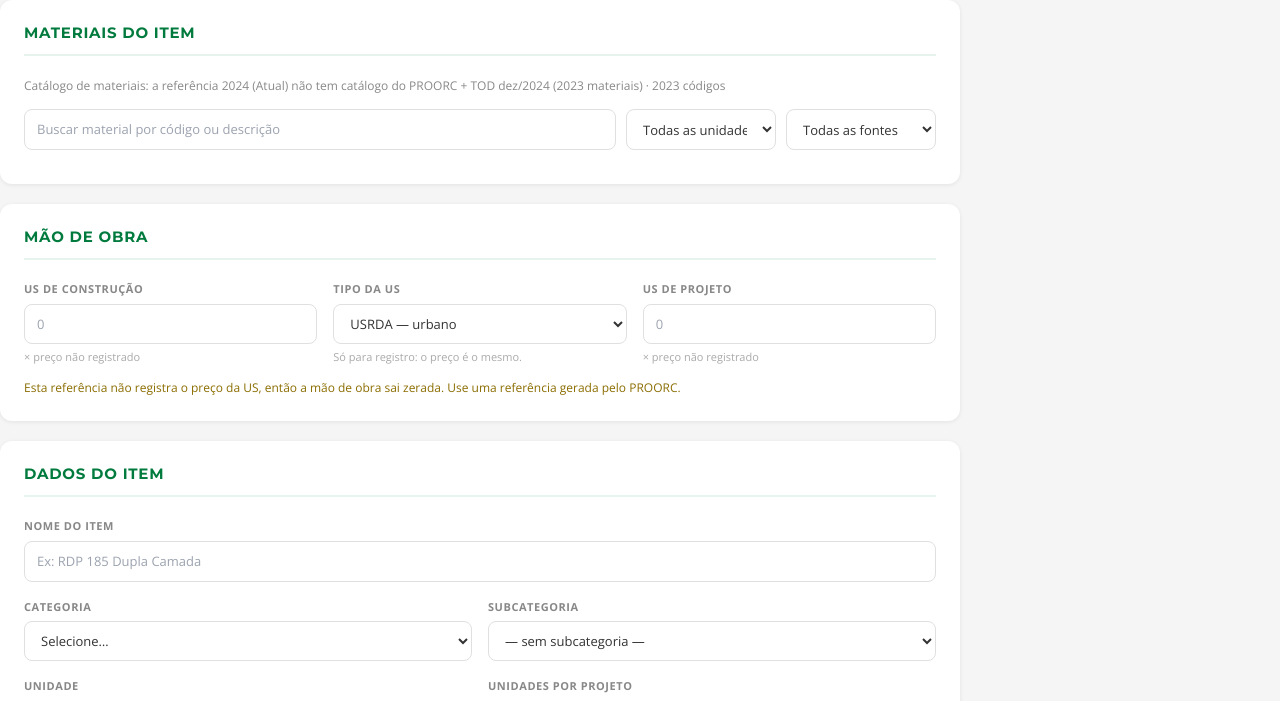
Criar Item com o catálogo da TOD › a busca espera a digitação terminar
Type "poste circular 11m" into the field with placeholder "Buscar material por código ou descrição" at (320, 130), box 24,109 -> 616,150
Wait 300 ms
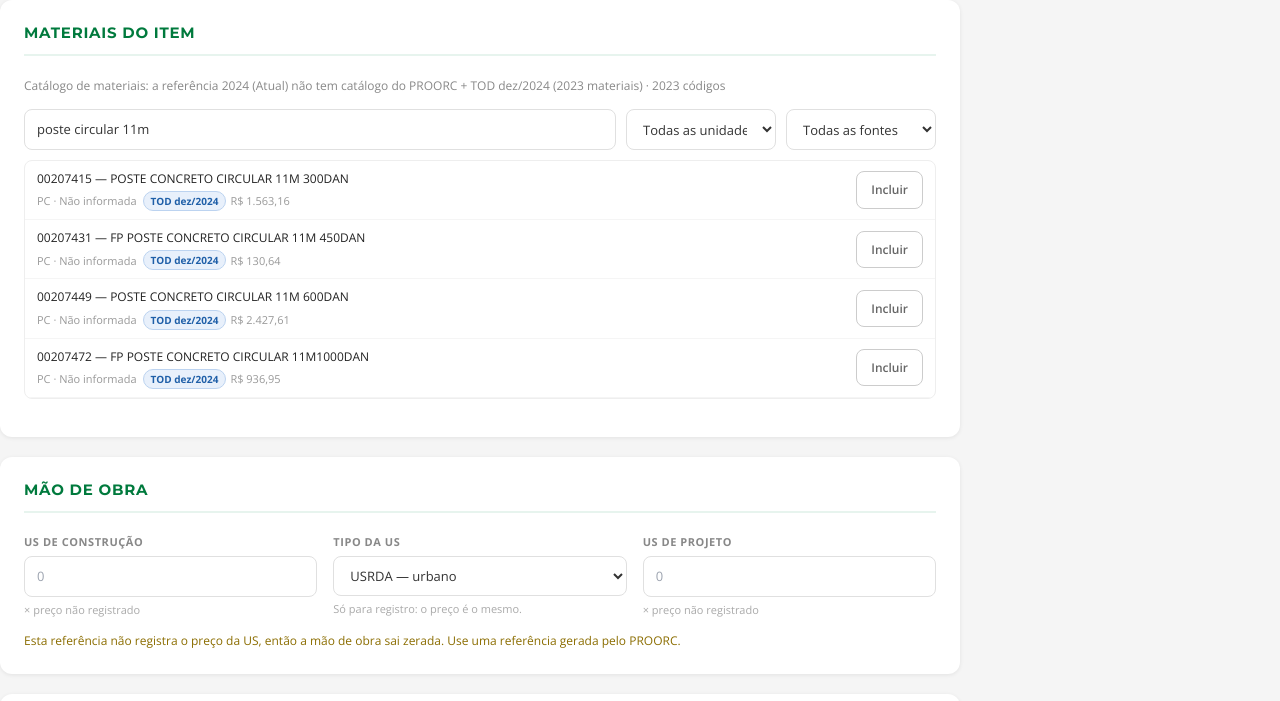
Now the element with test id "resultado-00207415" is shown, box 25,161 -> 935,220
